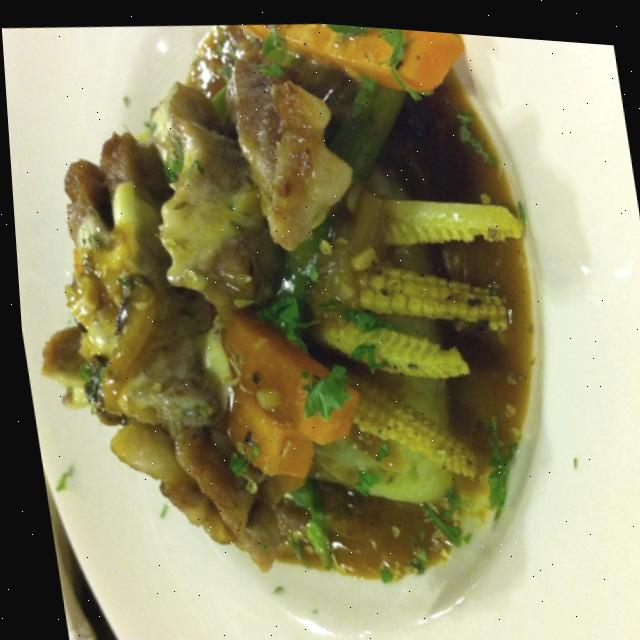猪肉菜式: (0, 0, 581, 627)
